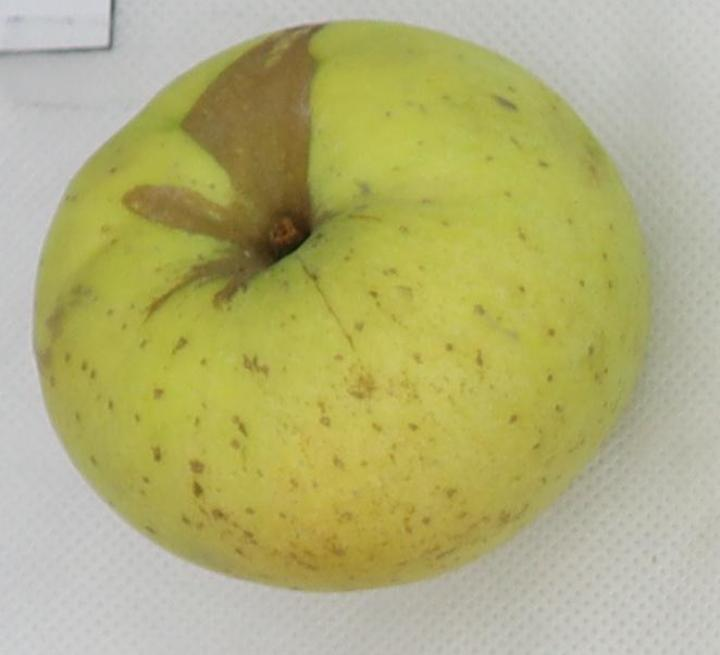apple: (35, 22, 648, 589)
bruise_discoloration: (123, 25, 322, 312)
